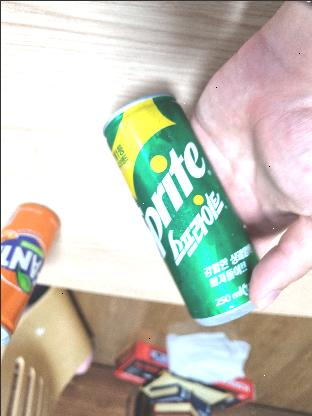Can: (94, 90, 262, 317)
